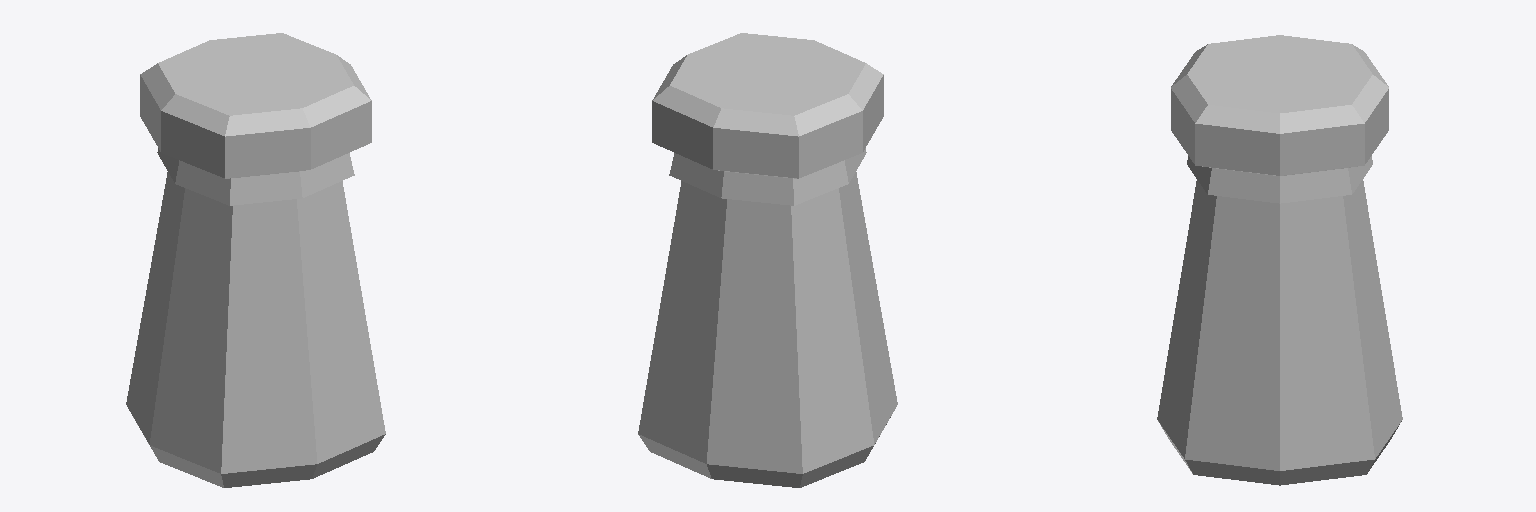
Rendered from salt(exhaustion).obj.
3 views of the same model, side by side, from view 1: azimuth 30°, elevation 25°; view 2: azimuth 150°, elevation 25°; view 3: azimuth 270°, elevation 25° (orthographic).
Visible parts, largest first — view 1: Cube.009_Cube.010; view 2: Cube.009_Cube.010; view 3: Cube.009_Cube.010.
Boxes of the visible parts, box(x1,y1,x2,y2) form: Cube.009_Cube.010: box(126, 33, 385, 487); Cube.009_Cube.010: box(638, 33, 897, 487); Cube.009_Cube.010: box(1157, 35, 1402, 485).
Bounding box in the file's own units: 0.418 × 0.6842 × 0.418.